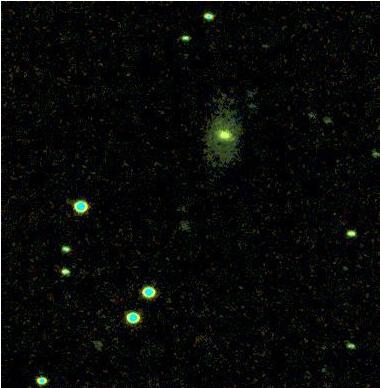star: (218, 124, 248, 154)
